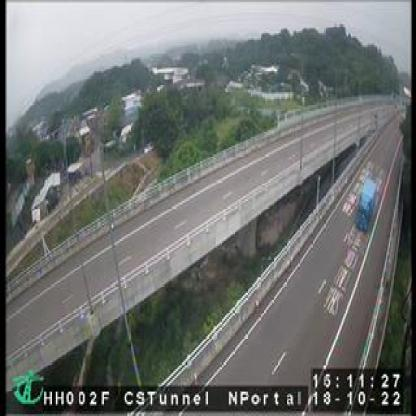Truck: (354, 176, 378, 232)
